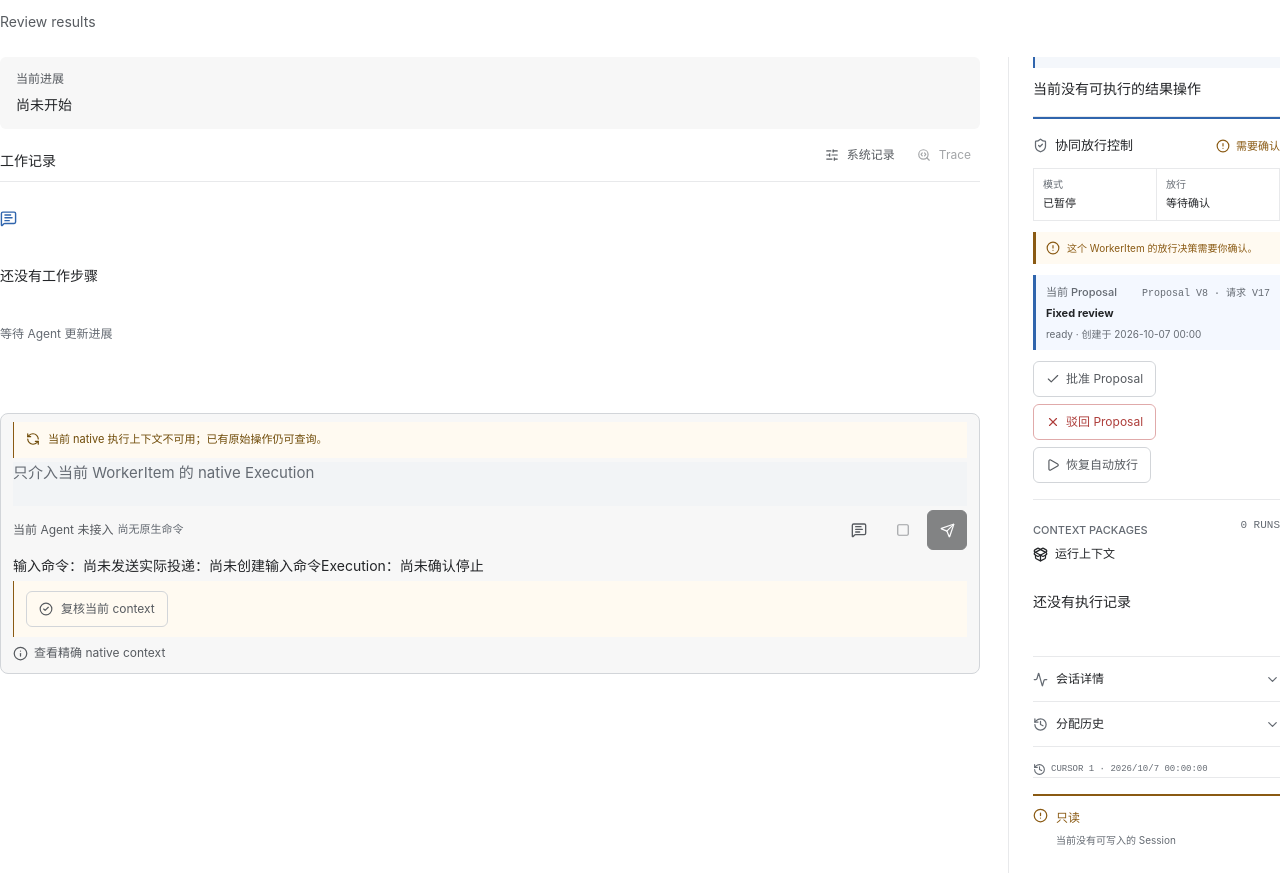
it: native WorkerItem result actions Page › resumes the hold at its own version while the Agent input remains closed
(page scrolled)
Click the button "恢复自动放行": (1092, 465) [1033,447,1151,483]
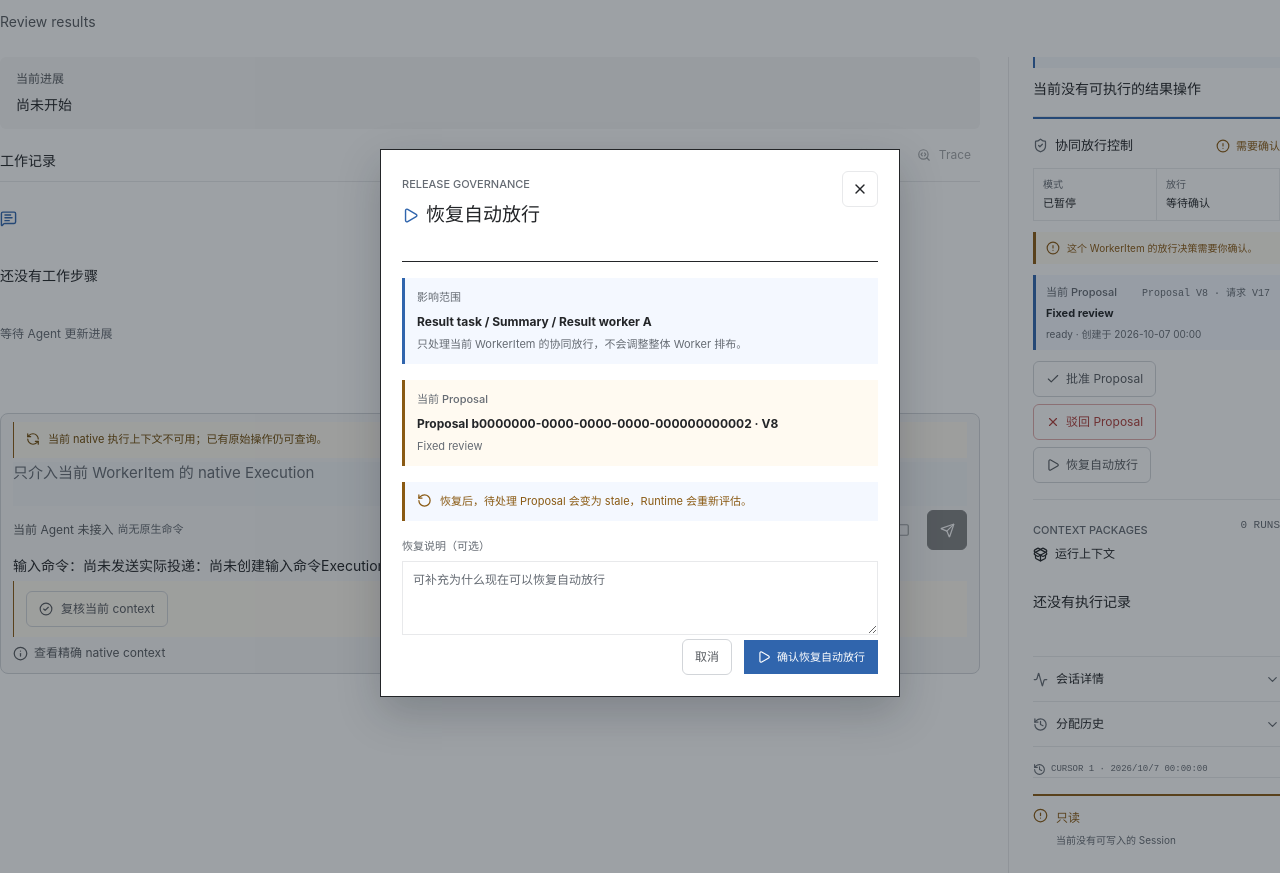
Click the button "确认恢复自动放行": (811, 657) [744,640,878,674]
(page scrolled)
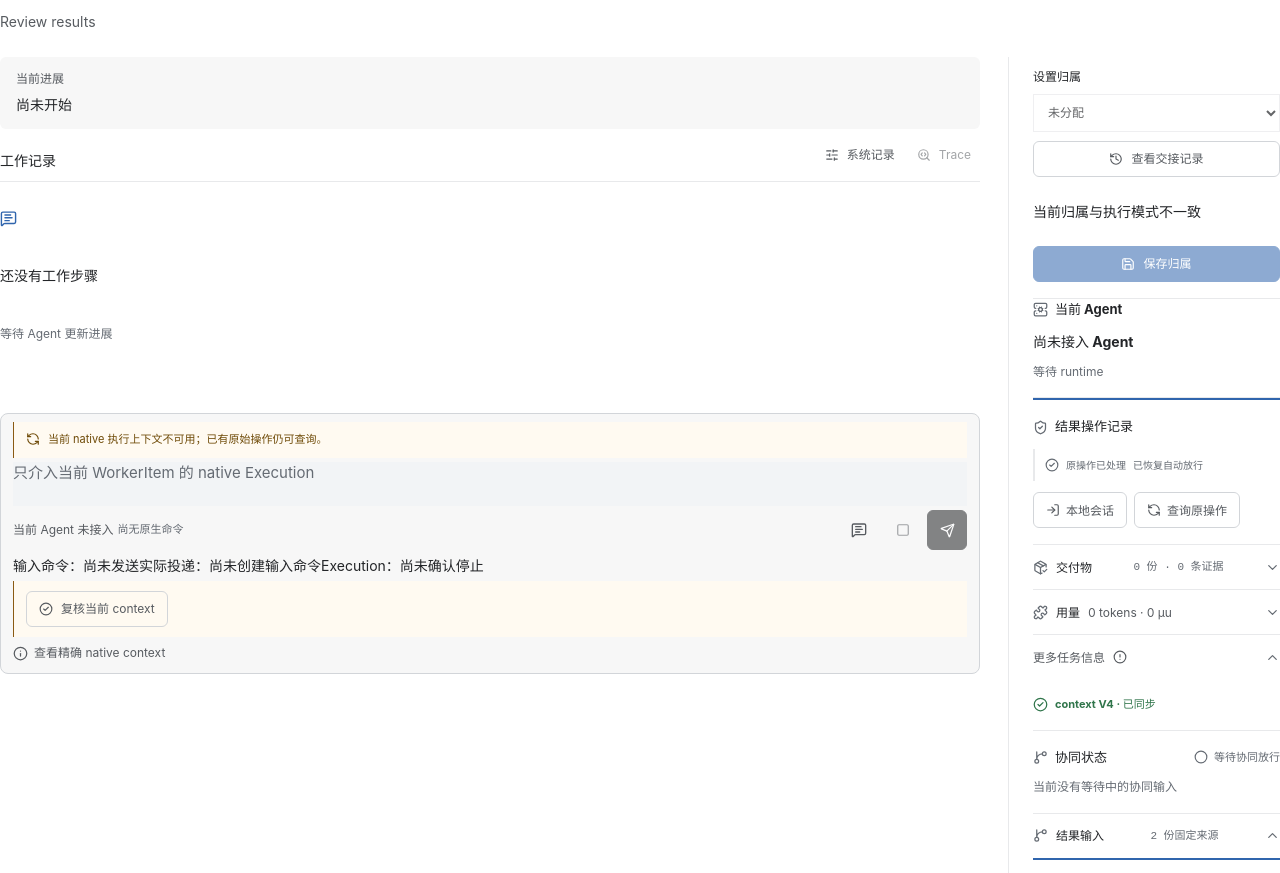
Expected: the text "已恢复自动放行" is shown, [1133,458,1203,472]
